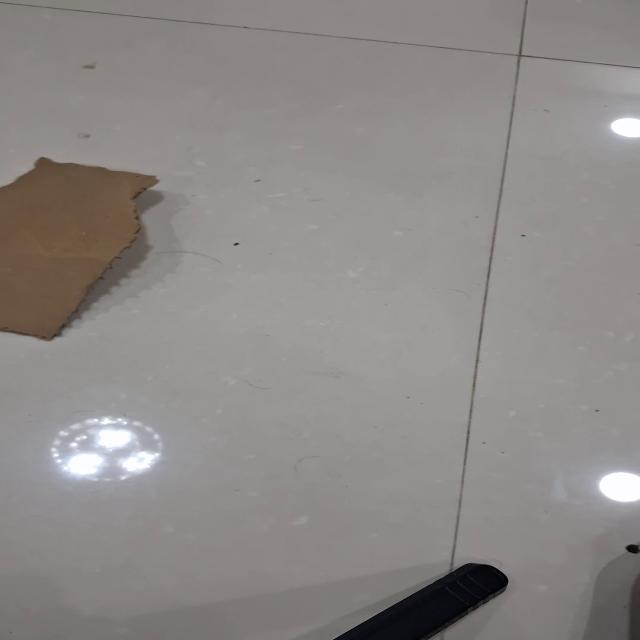paper: (2, 0, 637, 639), (1, 155, 160, 341)
